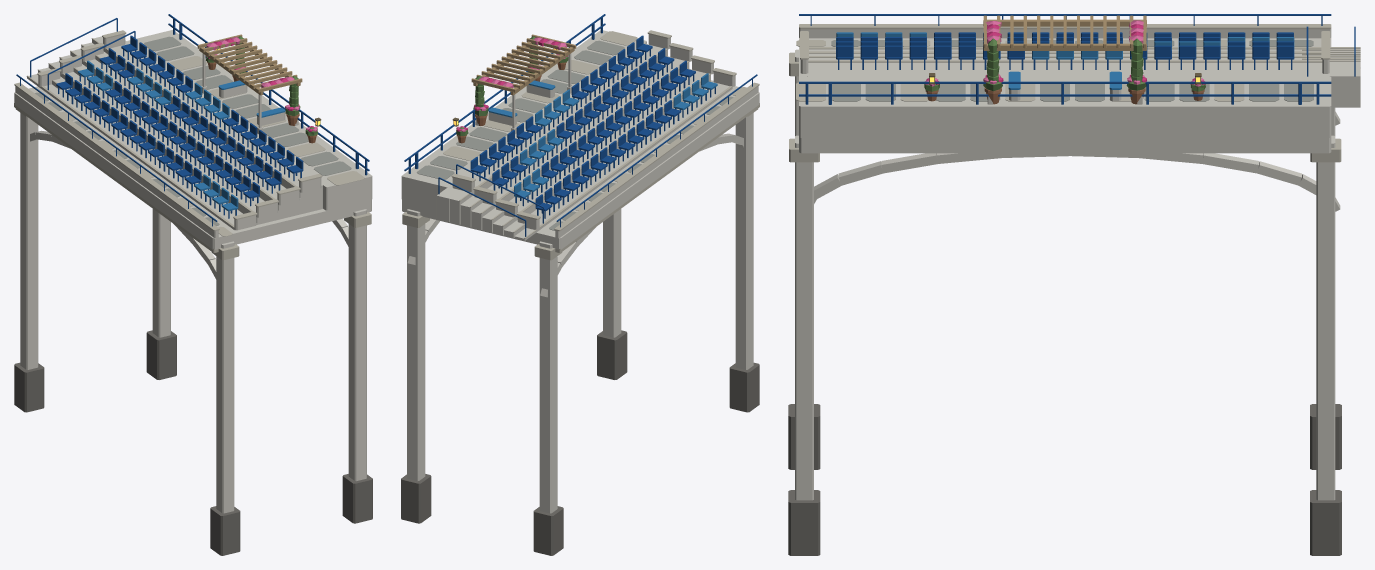
The model's file is santorini_terrace_modules.glb.
The picture shows the model from 3 angles, left to right: view 1: azimuth 30°, elevation 25°; view 2: azimuth 150°, elevation 25°; view 3: azimuth 270°, elevation 25°; orthographic projection. The views are drawn at different scales.
Visible parts, largest first — view 1: Terrace_Bay, Terrace_CapEnd, Terrace_CapStart, Terrace_BayPergola; view 2: Terrace_Bay, Terrace_CapEnd, Terrace_CapStart, Terrace_BayPergola; view 3: Terrace_Bay, Terrace_CapEnd, Terrace_CapStart, Terrace_BayPergola.
Boxes of the visible parts, left/top/right/bottom form: Terrace_Bay: left=14, top=18, right=372, bottom=555; Terrace_CapEnd: left=14, top=14, right=356, bottom=412; Terrace_CapStart: left=49, top=25, right=369, bottom=230; Terrace_BayPergola: left=197, top=34, right=317, bottom=135; Terrace_Bay: left=401, top=22, right=759, bottom=412; Terrace_CapEnd: left=401, top=23, right=724, bottom=555; Terrace_CapStart: left=418, top=14, right=736, bottom=222; Terrace_BayPergola: left=456, top=34, right=576, bottom=134; Terrace_Bay: left=788, top=14, right=1360, bottom=555; Terrace_CapEnd: left=829, top=31, right=1341, bottom=555; Terrace_CapStart: left=799, top=31, right=1301, bottom=104; Terrace_BayPergola: left=924, top=15, right=1205, bottom=104.
Size of the model in its own units: 9.24 by 21.4 by 21.5.
